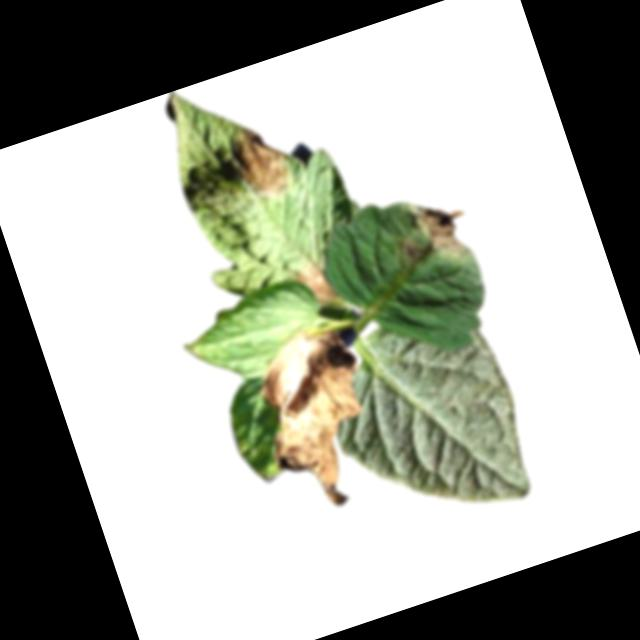Late_blight: (239, 316, 398, 521), (219, 116, 300, 210), (404, 187, 478, 273), (285, 255, 343, 317), (395, 235, 423, 268)
healthy: (307, 295, 543, 548)
